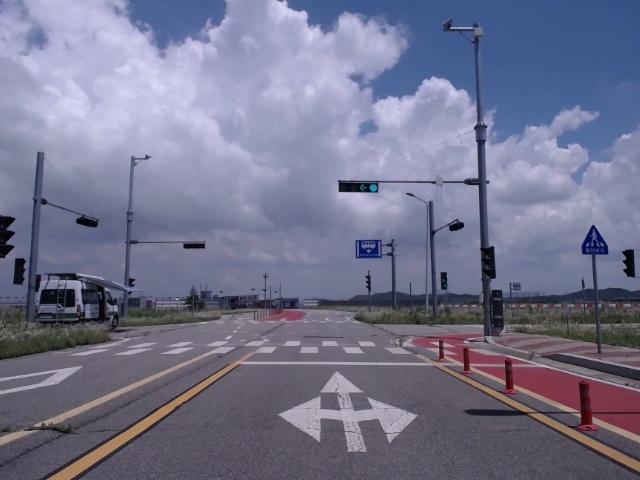all_green_4: (340, 180, 379, 192)
